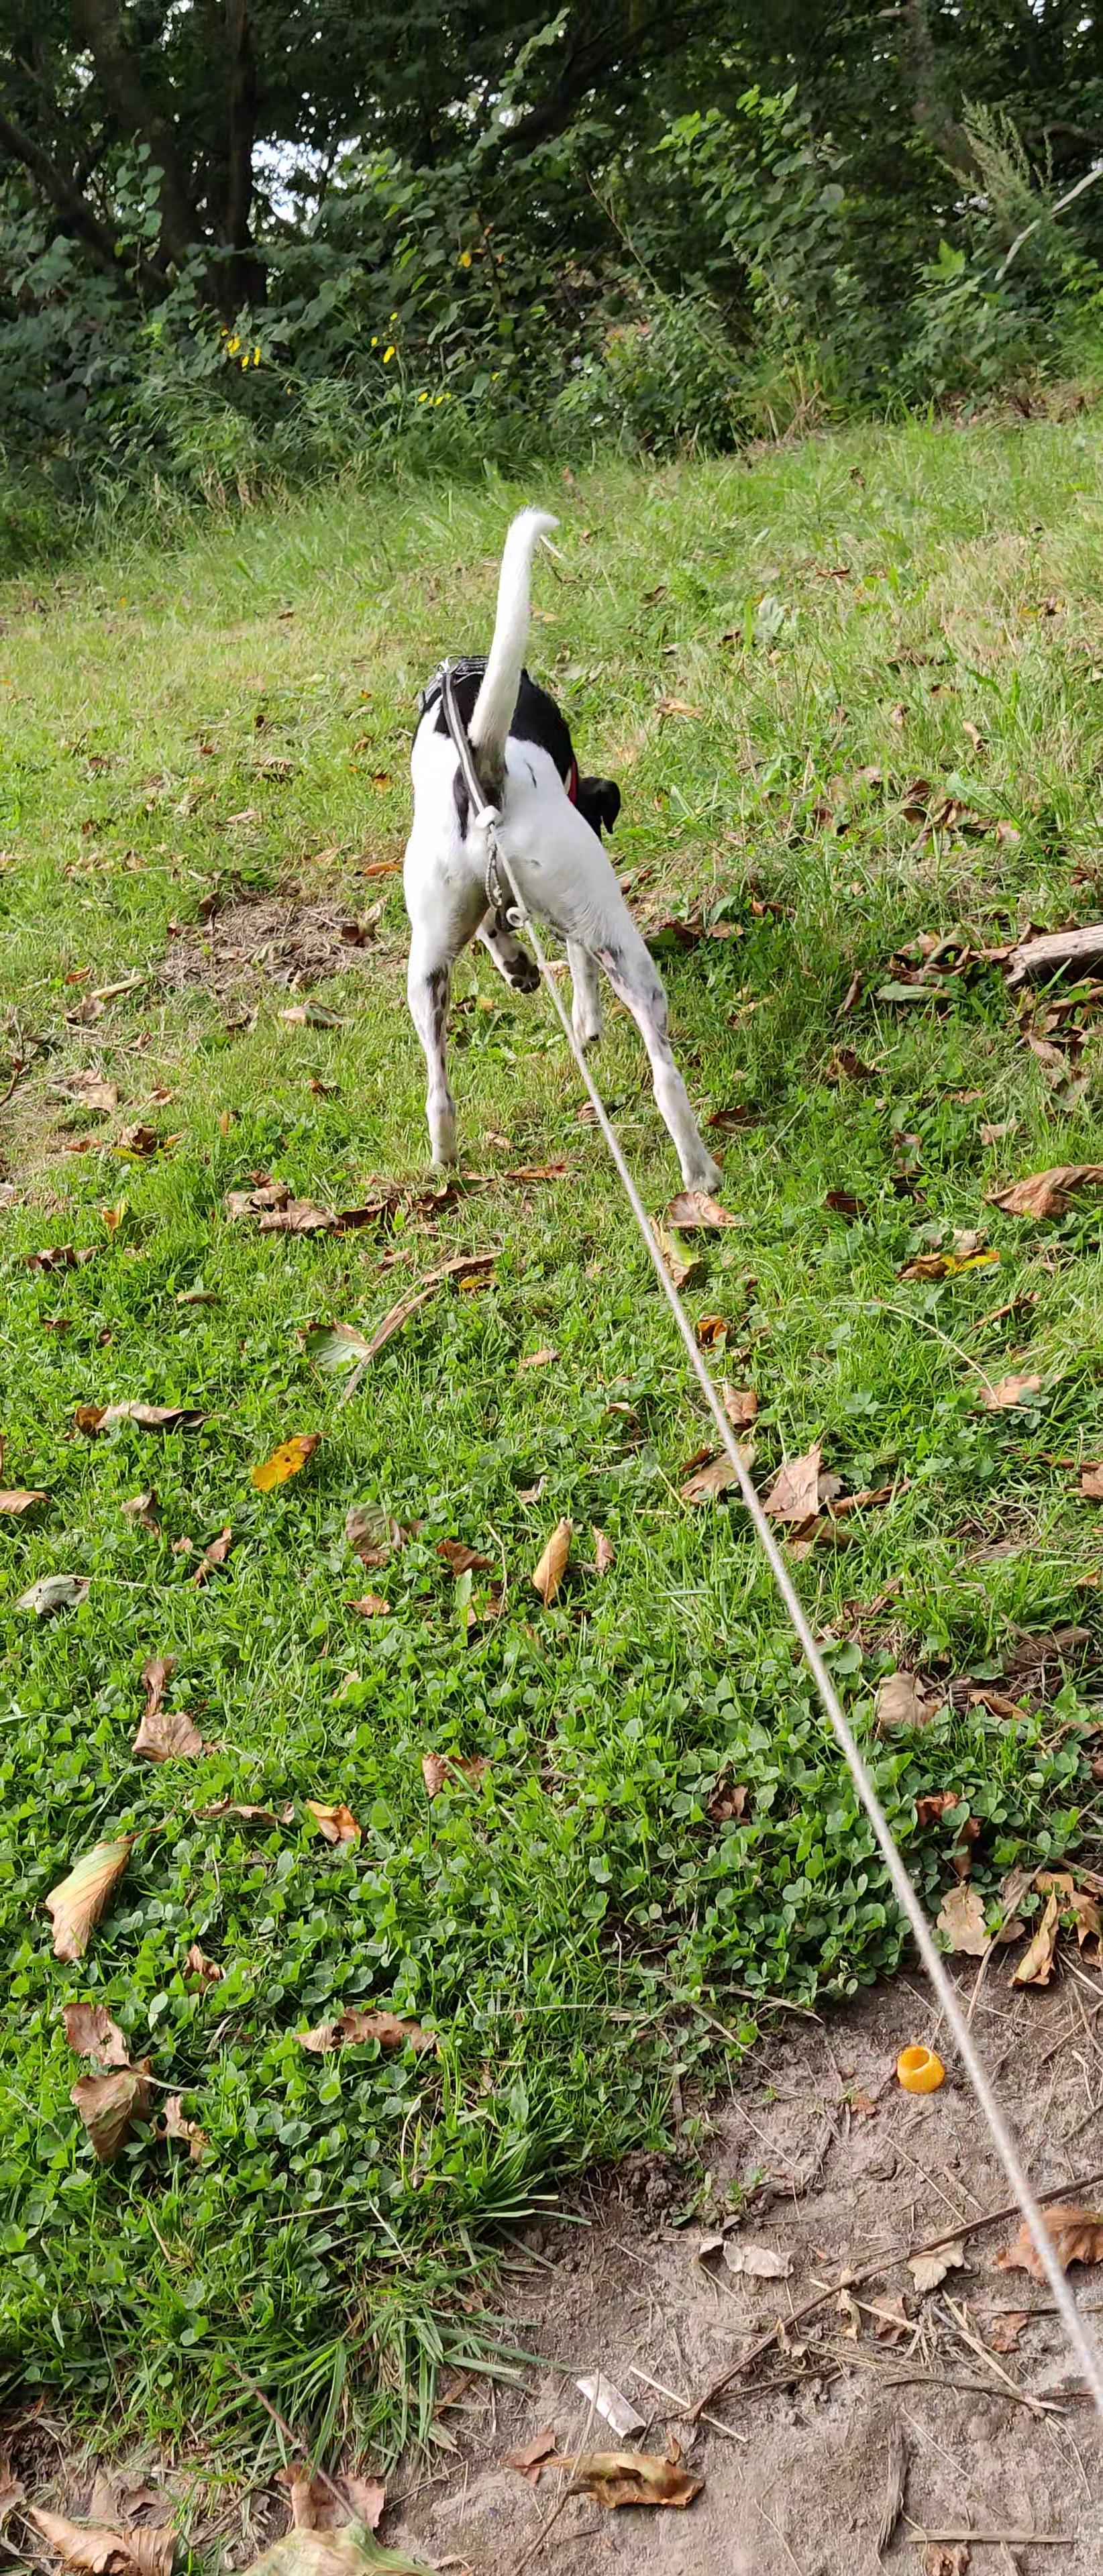Dog: (398, 498, 730, 1193)
